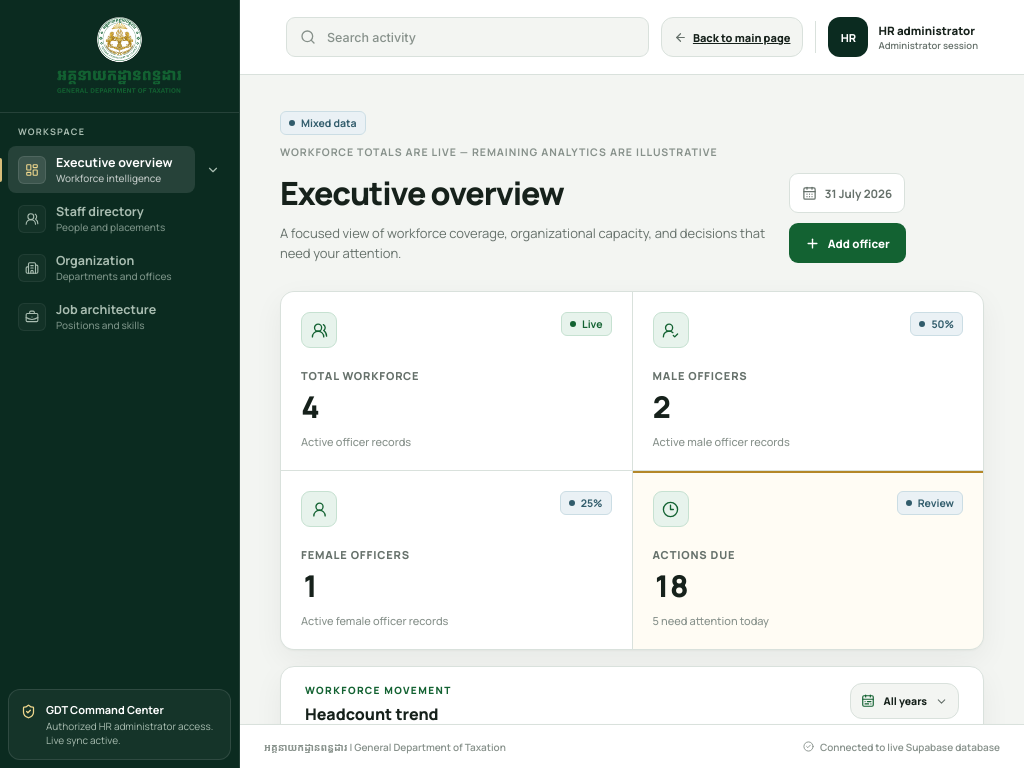
Test case: AdminDashboardPage › shows live recent activity with the all-years trend by default
This screenshot has width=1024, height=768.
Check: the button with aria-label "Filter headcount by year range" reads "All years", box [850,683,959,719]
Step 1. Type "Digital Tax" into the search field named "Search recent activity" → point(467, 37), box [286,17,649,57]
(page scrolled)
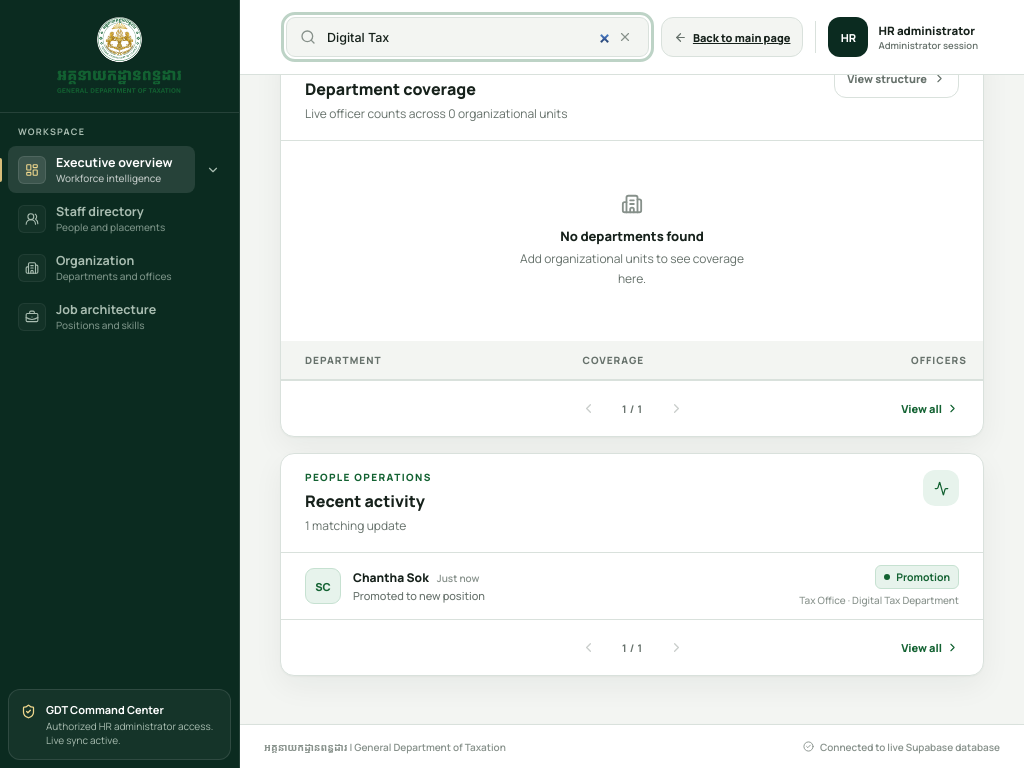
Check: the text "Chantha Sok" is shown, box [353,569,429,586]
